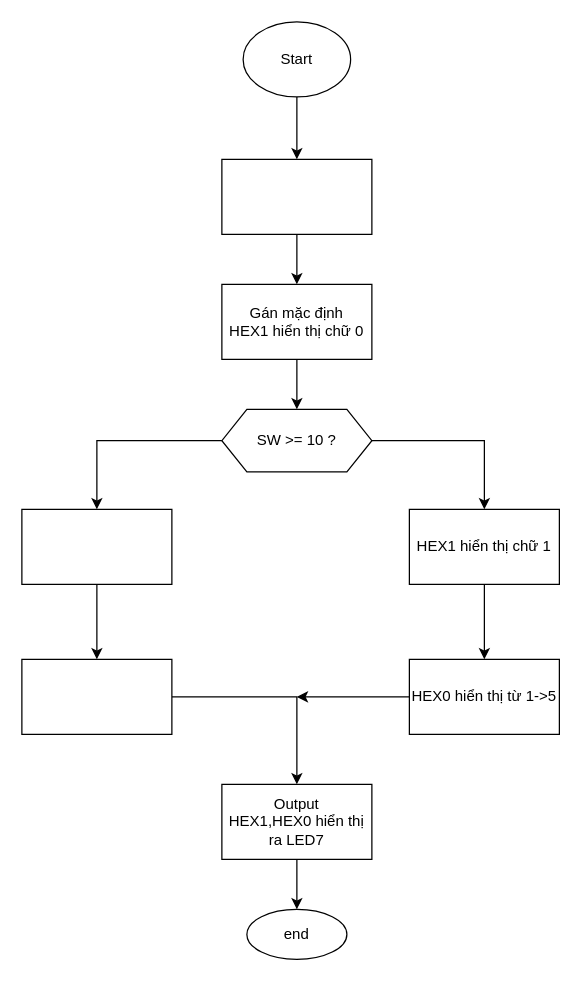
Some shapes in this 581 by 981 pixel diagram are drawn without their labels. Here are the shapes that lost their labels. From the top down, the centre of each, then its label:
pixel 296 196: Khai báo 4 bit input SW[3:0]
pixel 96 546: HEX1 hiển thị chữ 0
pixel 96 696: HEX0 hiển thị từ 0->9
